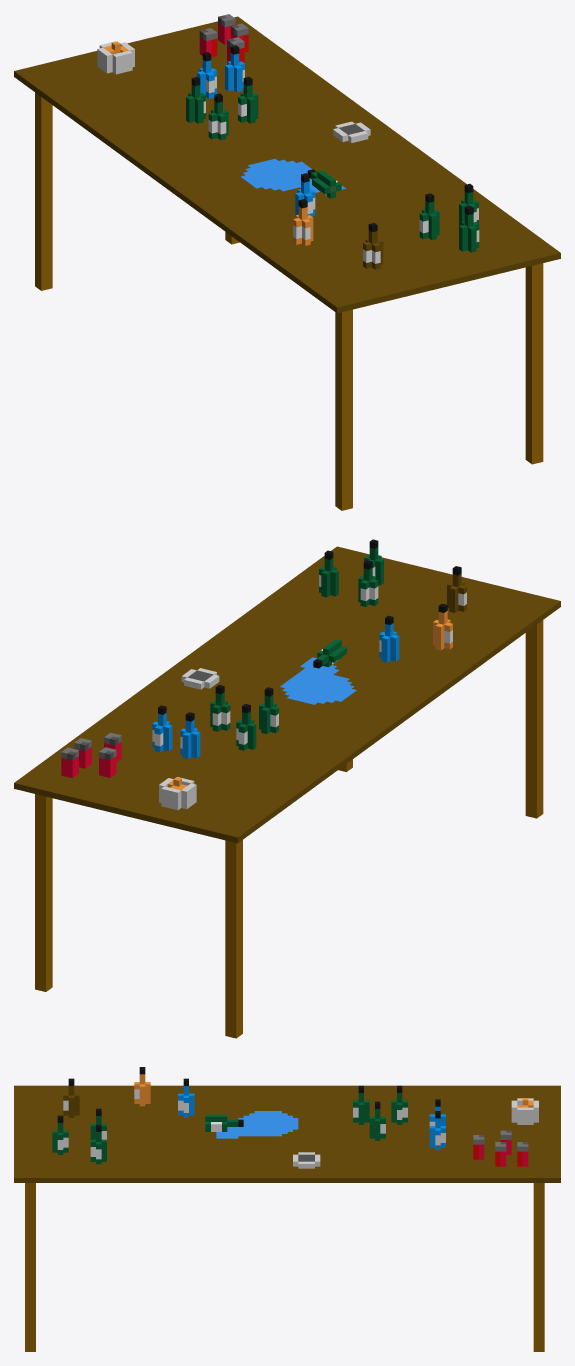
The model's file is table_deco1.obj.
3 views of the same model, one above another, from view 1: azimuth 30°, elevation 25°; view 2: azimuth 150°, elevation 25°; view 3: azimuth 270°, elevation 25° (orthographic). The views are drawn at different scales.
Visible parts, largest first — view 1: table_deco1; view 2: table_deco1; view 3: table_deco1.
Boxes of the visible parts, x1,y1,x2,y2 form: table_deco1: (14,14,560,510); table_deco1: (14,539,560,1038); table_deco1: (14,1067,560,1351).
Size of the model in its own units: 40 by 43 by 100.
1 material, 1 textured.
